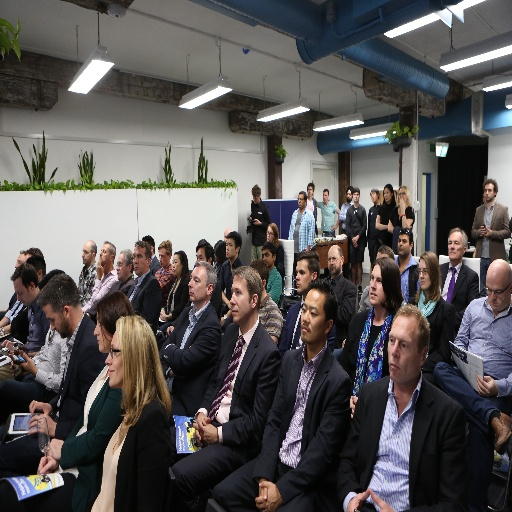hand: (254, 479, 282, 511), (27, 413, 57, 438), (368, 488, 394, 511), (194, 411, 210, 447), (345, 486, 368, 511), (192, 422, 216, 445), (475, 374, 497, 396), (37, 455, 60, 474), (45, 437, 63, 460), (19, 351, 34, 375), (28, 400, 51, 414), (95, 255, 106, 279), (0, 338, 15, 351), (350, 395, 358, 418), (479, 224, 492, 236), (8, 359, 15, 378), (165, 325, 174, 337), (258, 482, 265, 496), (397, 198, 406, 207), (479, 224, 487, 234), (168, 367, 174, 377), (159, 312, 166, 320), (351, 234, 358, 242), (226, 300, 232, 309), (253, 217, 260, 224), (341, 337, 345, 349), (352, 241, 358, 249), (219, 316, 224, 325), (159, 306, 165, 313), (329, 224, 336, 230), (376, 215, 380, 223), (304, 249, 310, 253), (248, 215, 251, 221), (408, 224, 411, 230), (310, 179, 314, 182)
